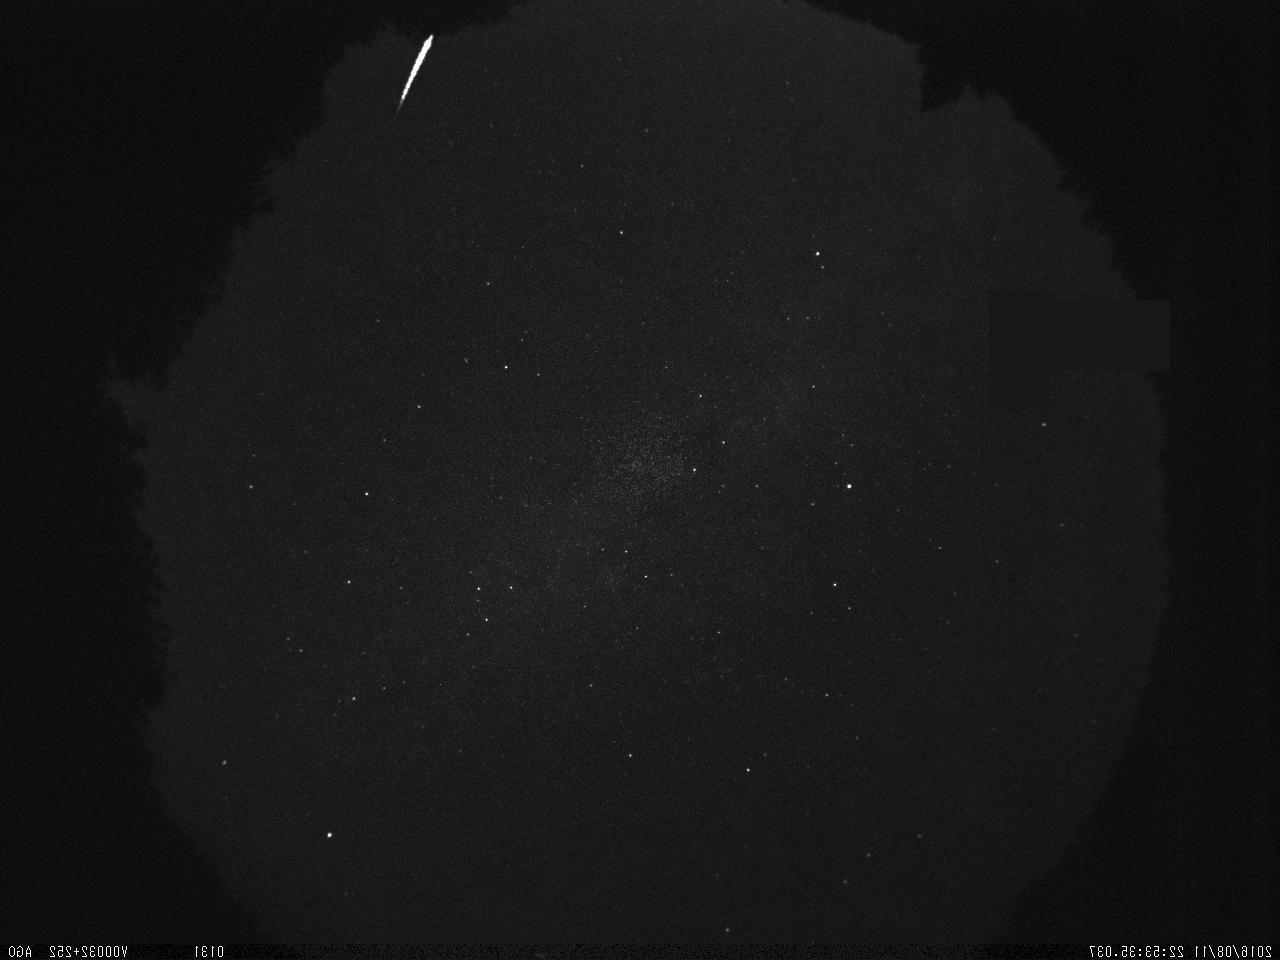meteor: (386, 28, 441, 120)
